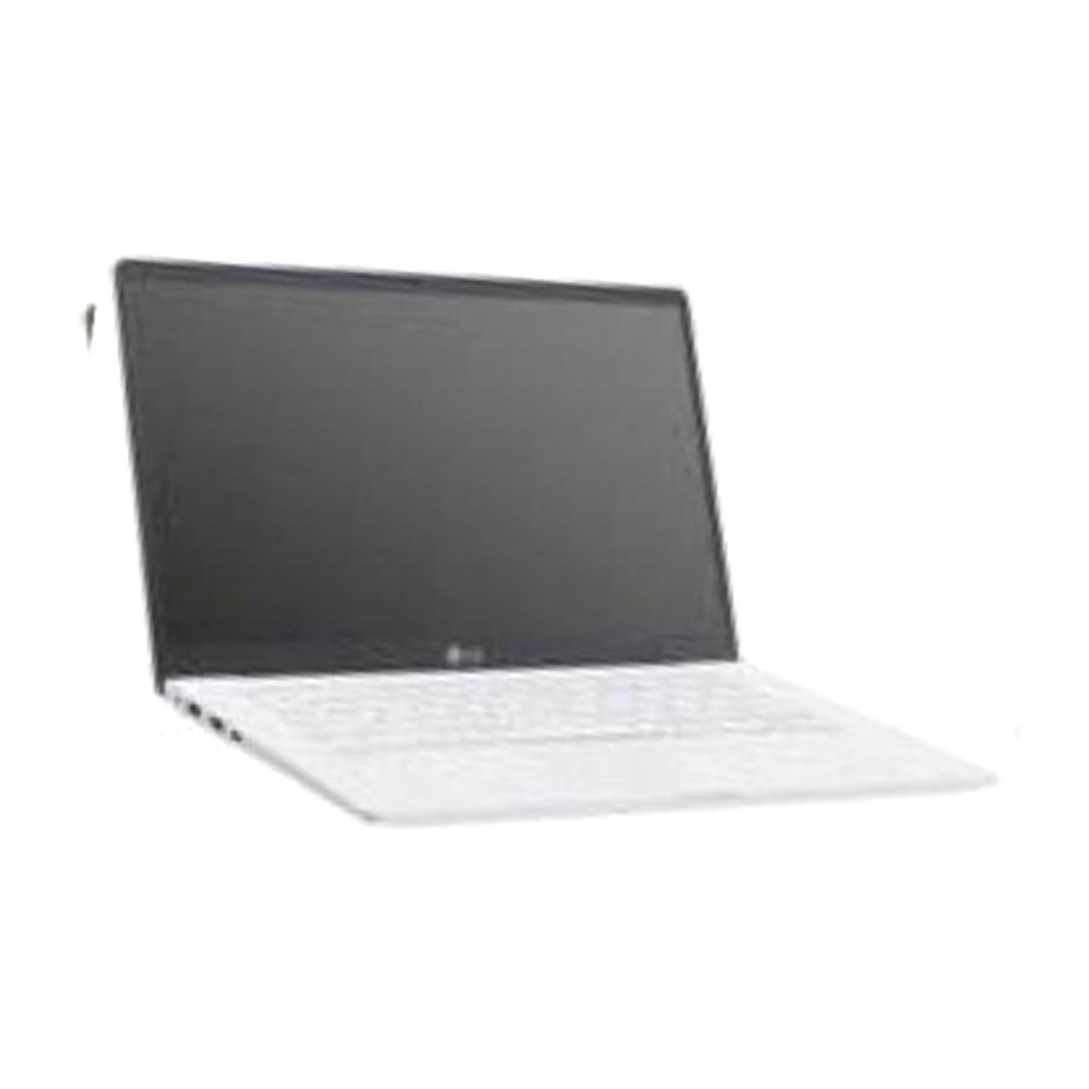laptop: (55, 232, 1044, 901)
